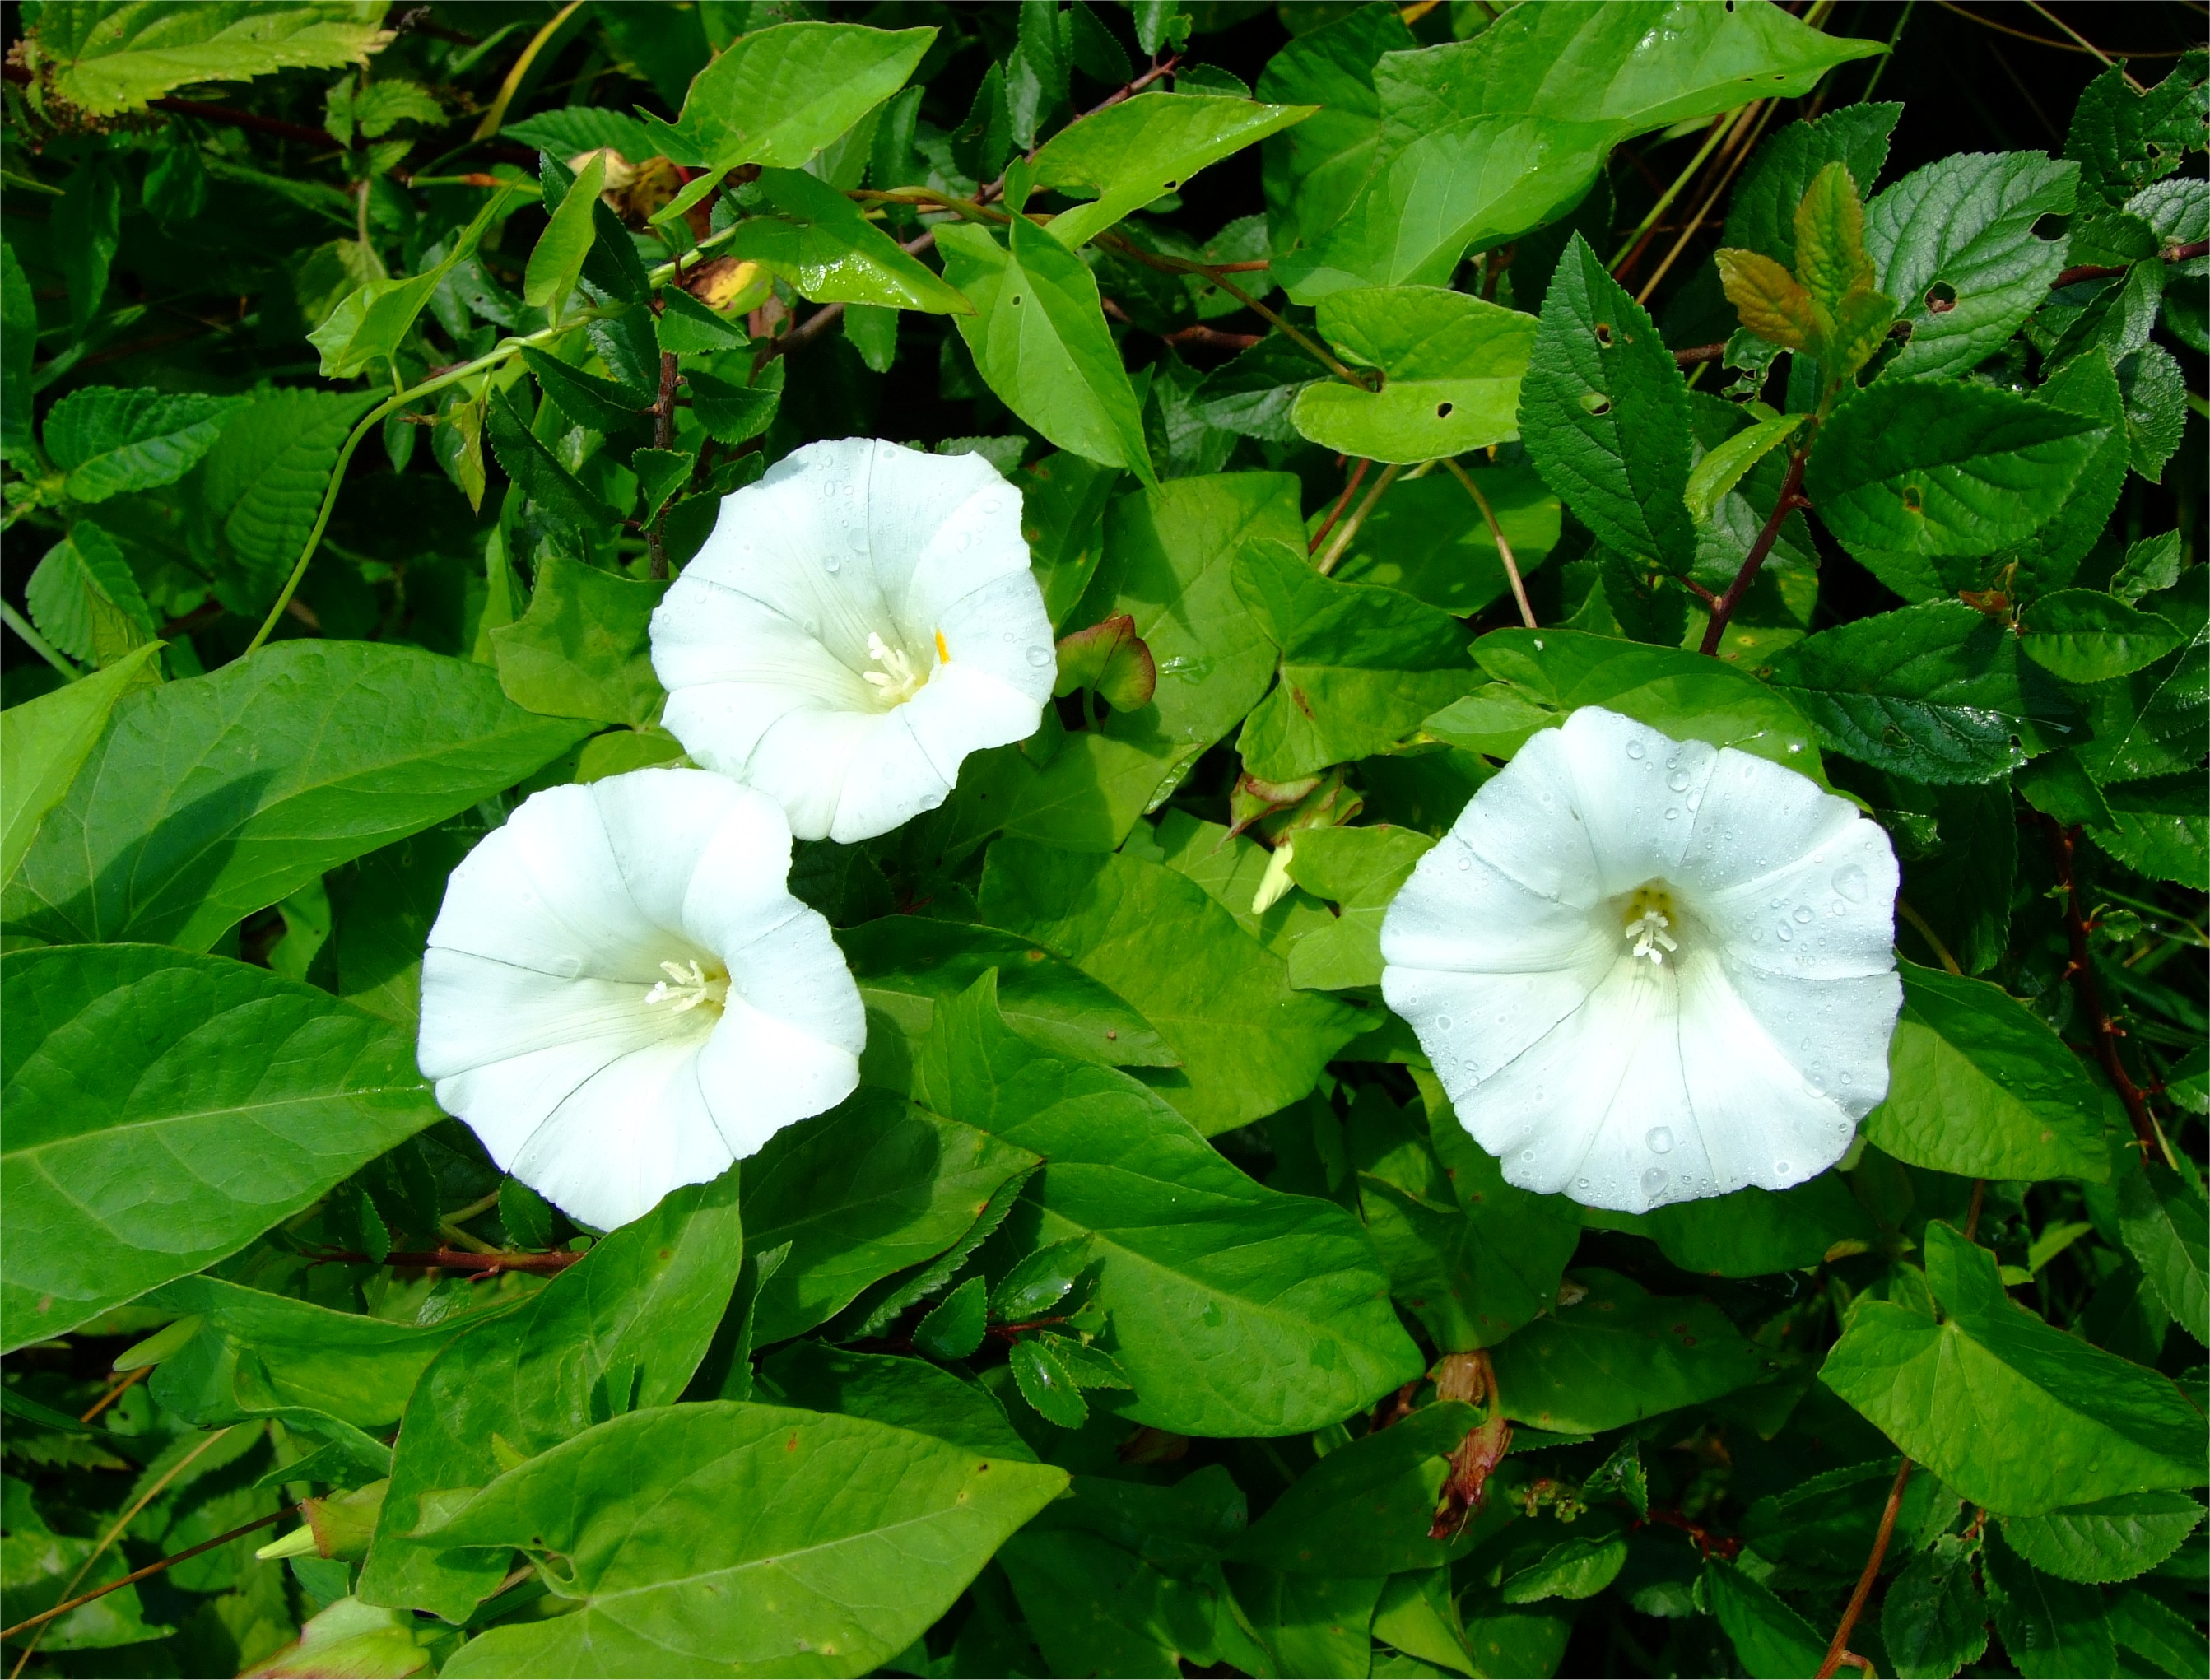haagwinde: (402, 372, 1951, 1301)
